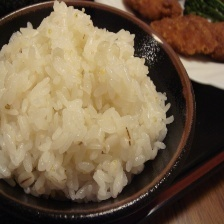rice: (0, 0, 177, 206)
